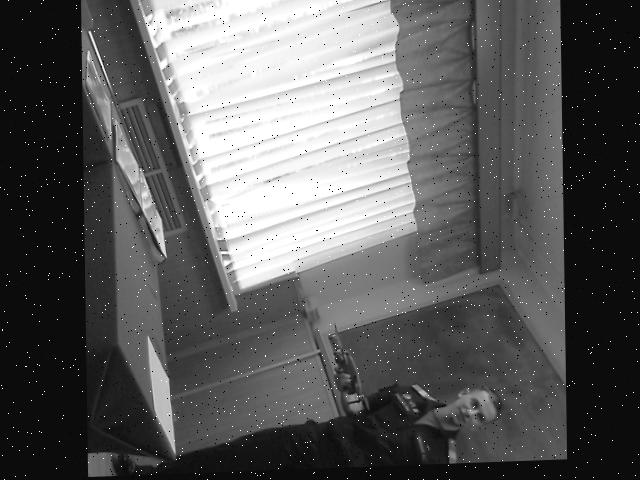drone: (321, 329, 370, 413)
